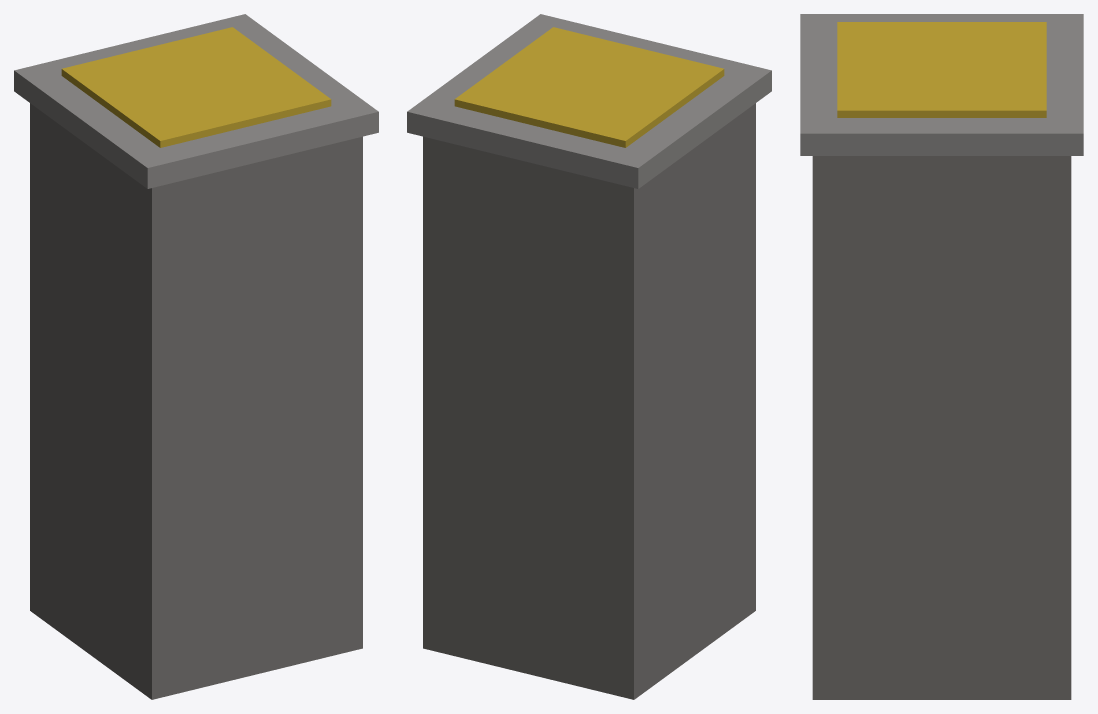
Rendered from B_drain_hatch.glb.
The picture shows the model from 3 angles, left to right: view 1: azimuth 30°, elevation 25°; view 2: azimuth 150°, elevation 25°; view 3: azimuth 270°, elevation 25°; orthographic projection. The views are drawn at different scales.
Visible parts, largest first — view 1: Cube.003, Cube, Cube.028, Cube.029, Cube.002; view 2: Cube.001, Cube, Cube.028, Cube.029, Cube.002; view 3: Cube.002, Cube.028, Cube.029.
Boxes of the visible parts, x1,y1,x2,y2 form: Cube.003: (172, 141, 342, 694); Cube: (30, 103, 171, 699); Cube.028: (14, 14, 378, 188); Cube.029: (61, 27, 331, 147); Cube.002: (343, 136, 362, 653); Cube.001: (443, 141, 613, 694); Cube: (614, 103, 755, 699); Cube.028: (407, 14, 771, 188); Cube.029: (454, 27, 724, 147); Cube.002: (423, 136, 442, 653); Cube.002: (812, 156, 1071, 699); Cube.028: (800, 14, 1083, 155); Cube.029: (837, 22, 1046, 117).
Bounding box in the file's own units: 3.46 × 7.8 × 3.46.
